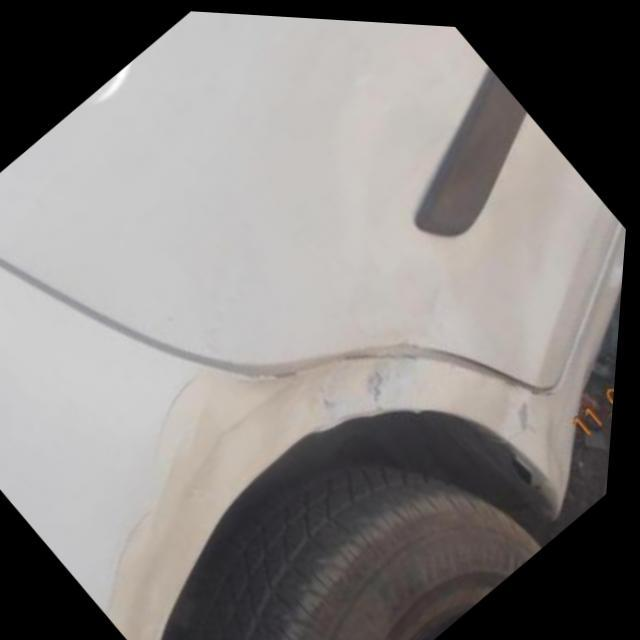dent: (96, 324, 579, 640)
